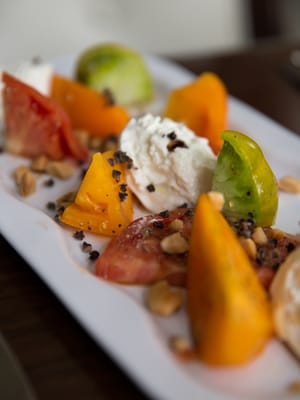curry: (211, 130, 279, 228)
